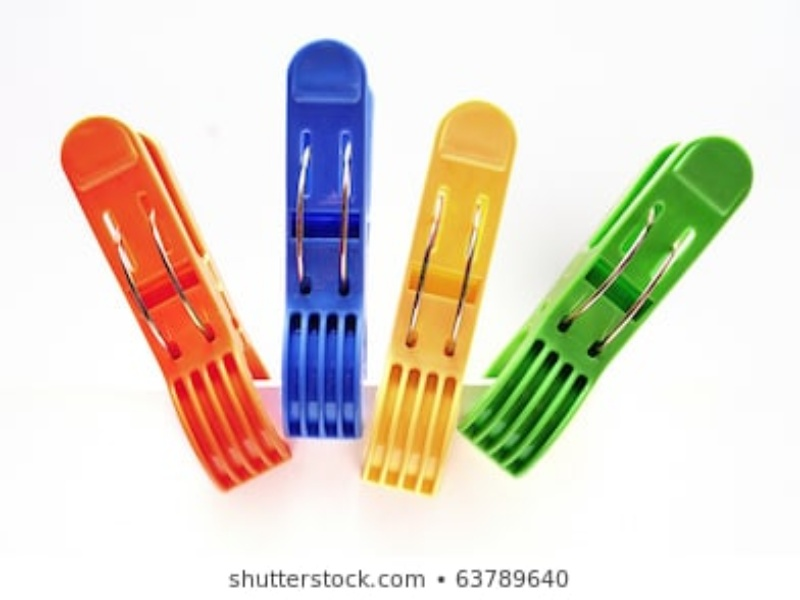plastic-peg: (461, 133, 757, 473), (57, 112, 294, 487), (361, 94, 523, 494), (280, 38, 370, 441)
